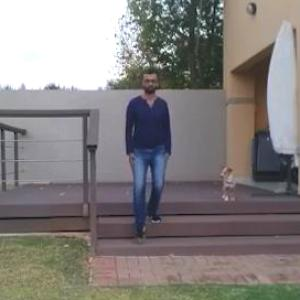follow: (122, 66, 166, 237)
